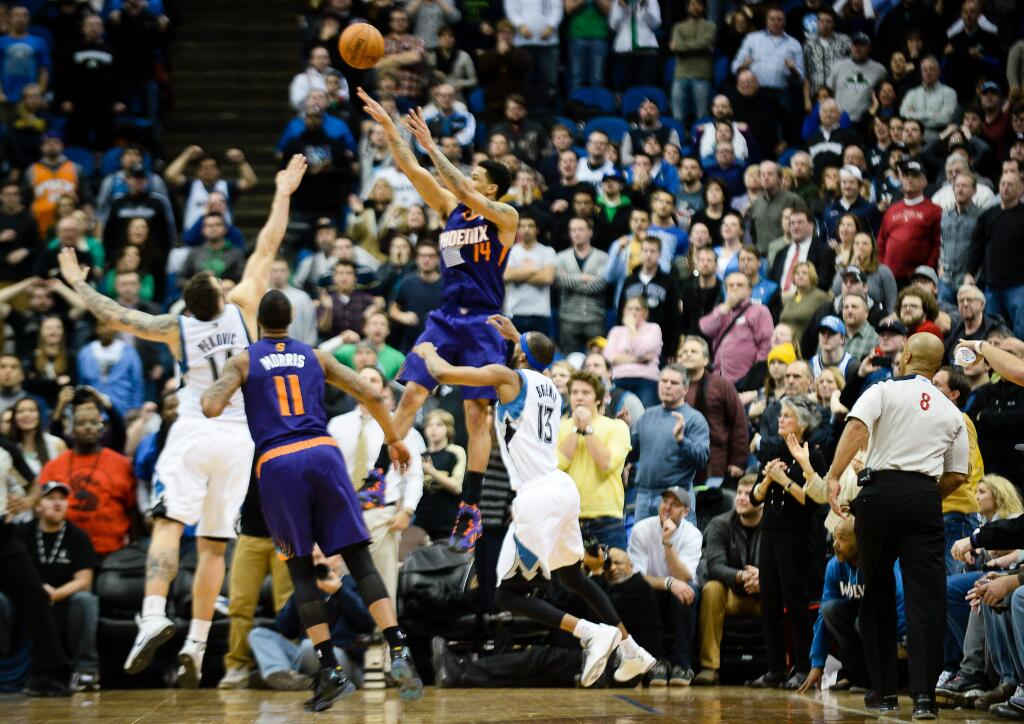Jumpshot: (338, 22, 467, 194)
